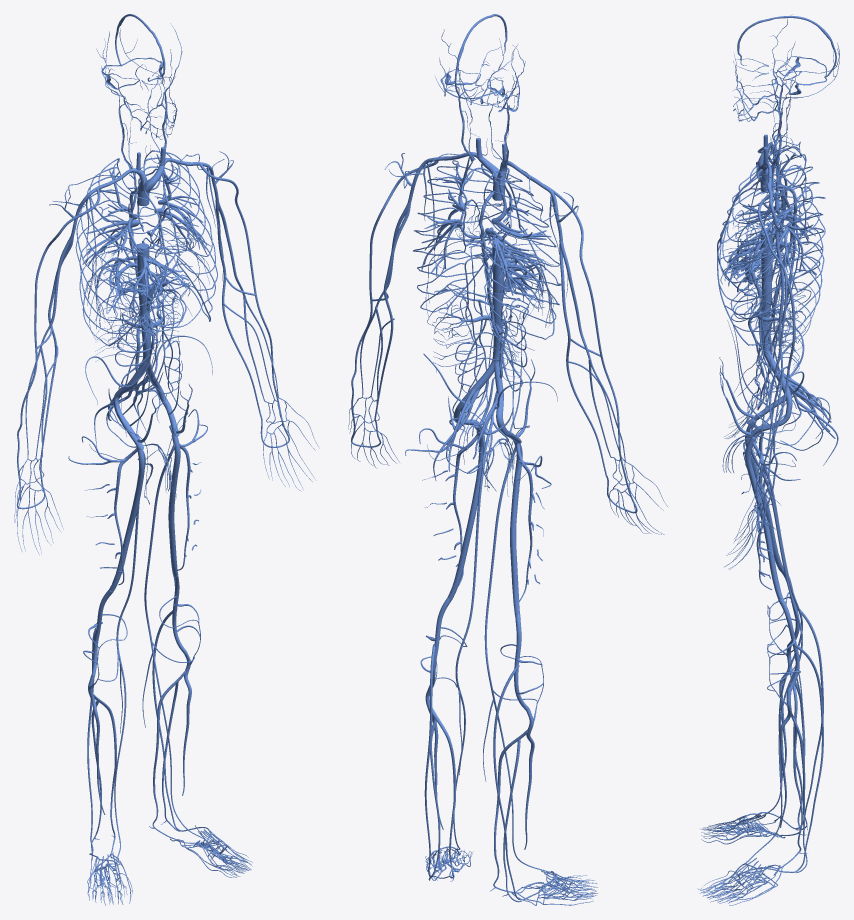
Rendered from vene.glb.
3 renders of one model, left to right at view 1: azimuth 30°, elevation 25°; view 2: azimuth 150°, elevation 25°; view 3: azimuth 270°, elevation 25°, orthographic. The views are drawn at different scales.
Parts seen in each view (by area): view 1: FJ1994, FJ1985, FJ2103, FJ2145, FJ2102, FJ2144, FJ2272, FJ2220, FJ2218; view 2: FJ1994, FJ1985, FJ2145, FJ2144, FJ2103, FJ2102, FJ2272, FJ2220, FJ2270, FJ2176, FJ2218, FJ2121; view 3: FJ1985, FJ1994, FJ2103, FJ2102, FJ2220, FJ2145, FJ2121, FJ2218, FJ2144, FJ2176, FJ2117, FJ2183 (+13 smaller).
Boxes of the visible parts, box(x1,y1,x2,y2) form: FJ1994: box(75, 158, 167, 345); FJ1985: box(139, 150, 217, 320); FJ2103: box(142, 443, 204, 839); FJ2145: box(114, 451, 145, 860); FJ2102: box(168, 434, 180, 578); FJ2144: box(109, 448, 144, 593); FJ2272: box(17, 188, 100, 480); FJ2220: box(199, 163, 281, 416); FJ2218: box(215, 200, 260, 413); FJ1994: box(480, 171, 561, 350); FJ1985: box(413, 160, 509, 325); FJ2145: box(483, 446, 548, 872); FJ2144: box(510, 441, 522, 616); FJ2103: box(453, 440, 486, 849); FJ2102: box(448, 429, 483, 601); FJ2272: box(544, 184, 628, 488); FJ2220: box(351, 161, 438, 421); FJ2270: box(559, 244, 606, 475); FJ2176: box(493, 664, 537, 900); FJ2218: box(374, 205, 410, 419); FJ2121: box(424, 644, 435, 876); FJ1985: box(718, 165, 825, 348); FJ1994: box(719, 145, 825, 302); FJ2103: box(746, 449, 803, 863); FJ2102: box(745, 436, 783, 599); FJ2220: box(757, 193, 787, 507); FJ2145: box(746, 428, 803, 819); FJ2121: box(783, 644, 823, 872); FJ2218: box(767, 250, 795, 489); FJ2144: box(745, 420, 783, 571); FJ2176: box(783, 609, 823, 829); FJ2117: box(778, 599, 799, 692); FJ2183: box(779, 691, 791, 827).
Size of the model in its own units: 0.6487 by 1.71 by 0.26.
